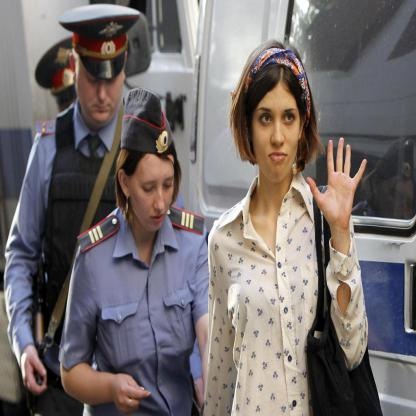face: (253, 77, 303, 183), (131, 153, 177, 234), (76, 53, 125, 127)
